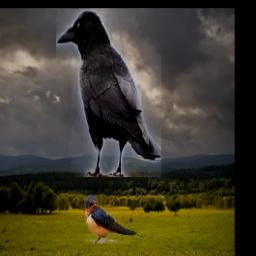Crow: (57, 9, 162, 177)
Swallow: (85, 195, 146, 244)
